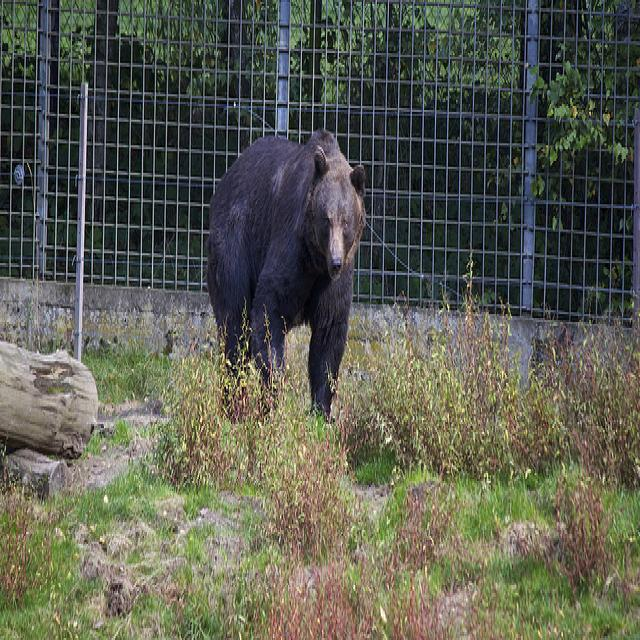Bear: (209, 127, 371, 426)
